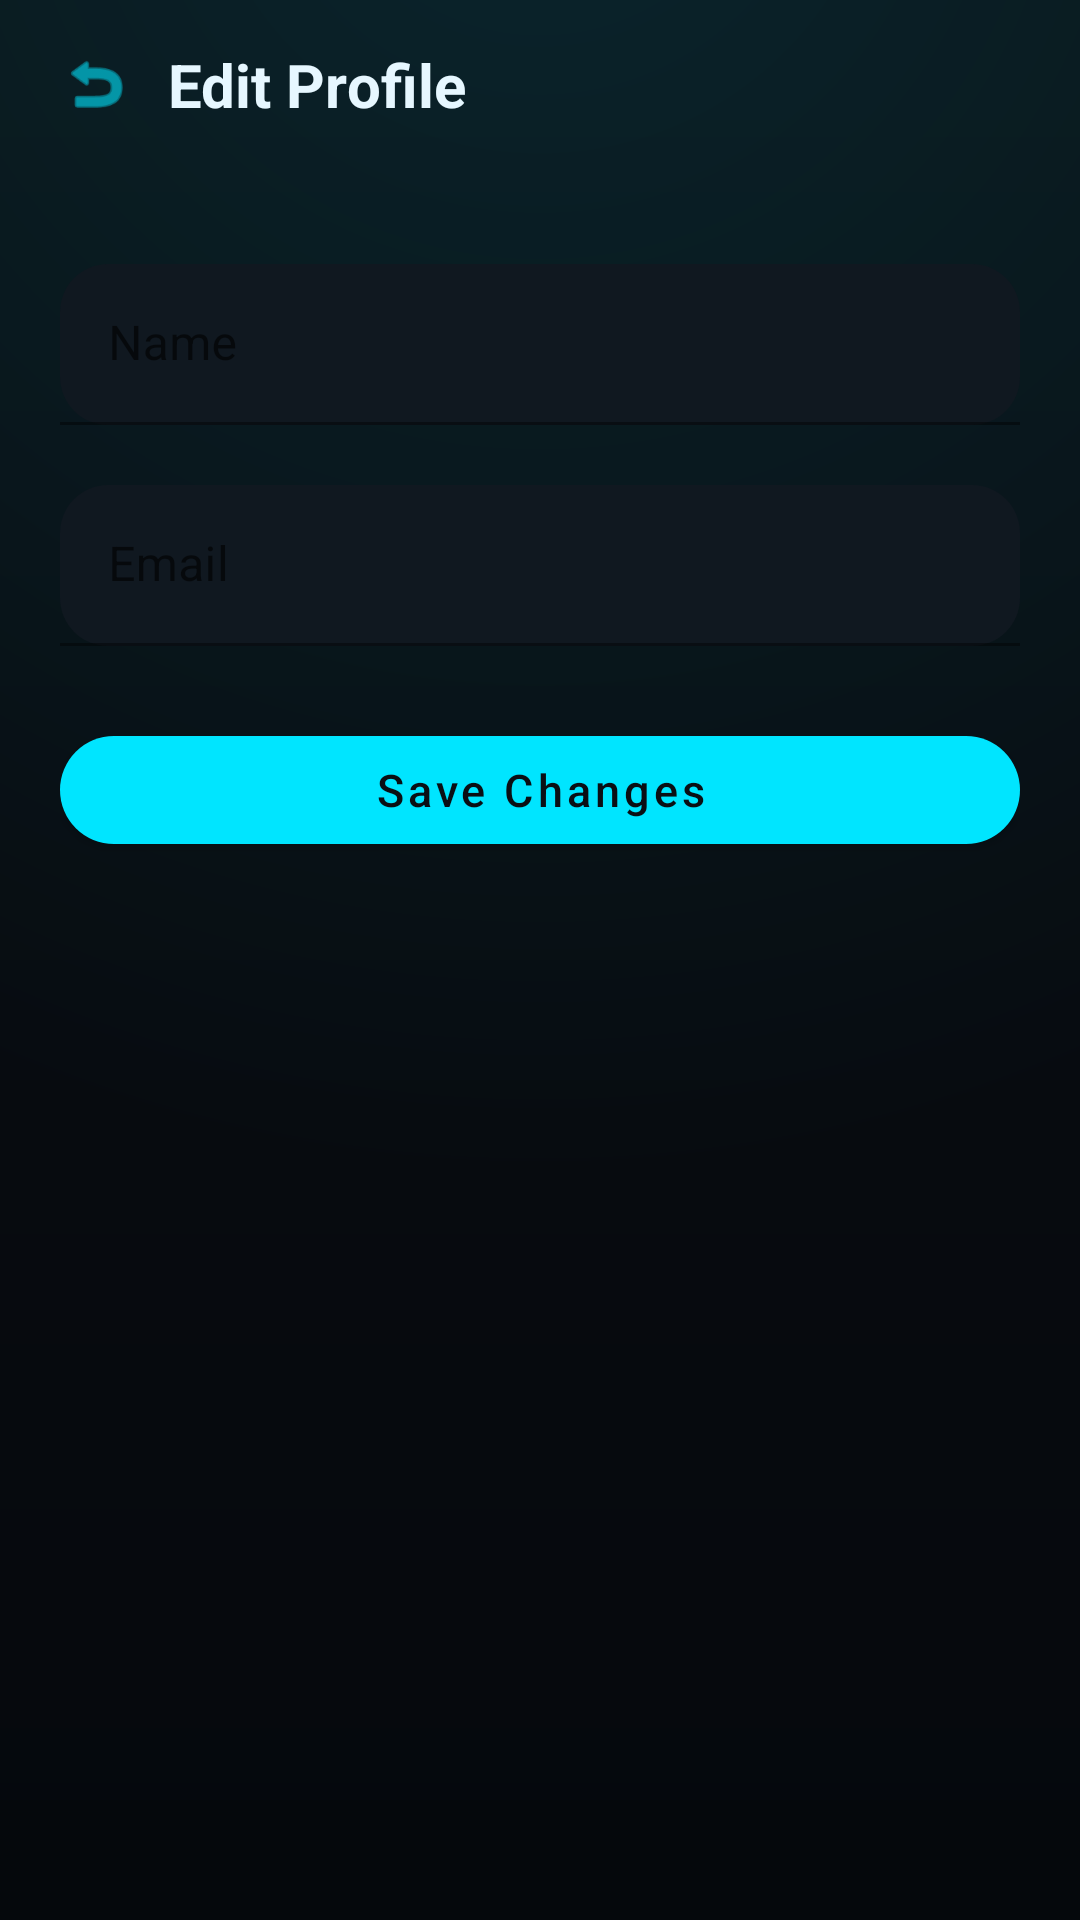

Screen size 1080px×1920px. Icon name, then its box in pixels as (x1, y1, x2, y2):
Back: (71, 61, 123, 108)
